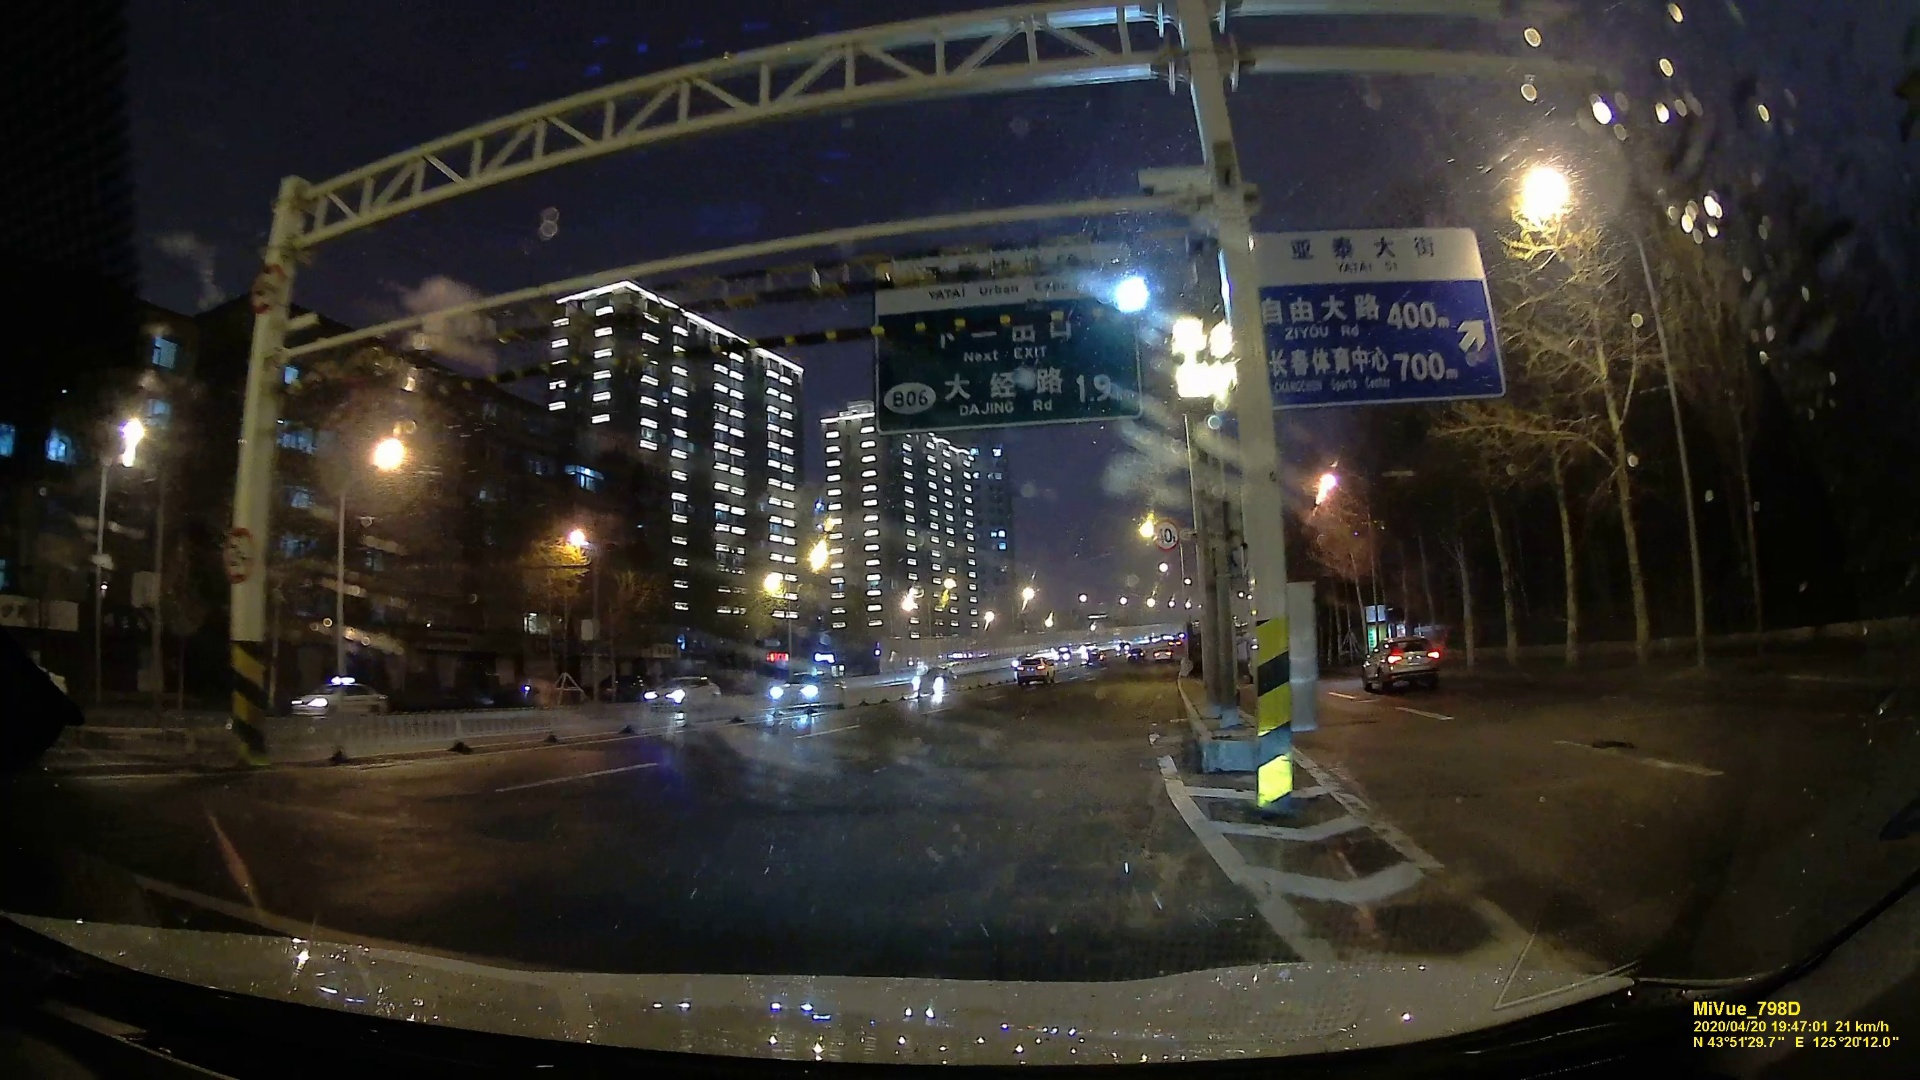traffic_sign: (884, 258, 1139, 418), (1262, 231, 1484, 406), (1149, 517, 1180, 549)
vehicle: (1364, 636, 1447, 694), (284, 679, 389, 723), (642, 674, 728, 713), (762, 671, 841, 709), (910, 667, 956, 694), (1015, 655, 1055, 682)
